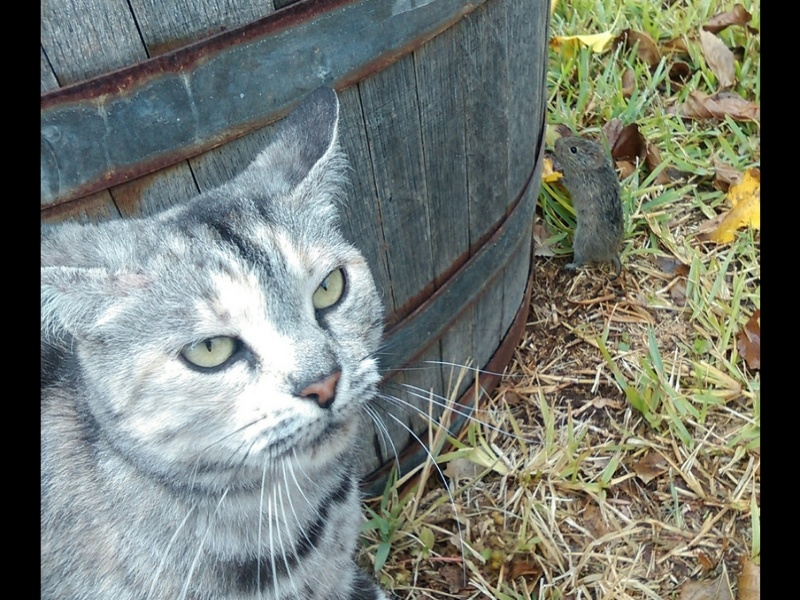cat: (46, 83, 390, 594)
